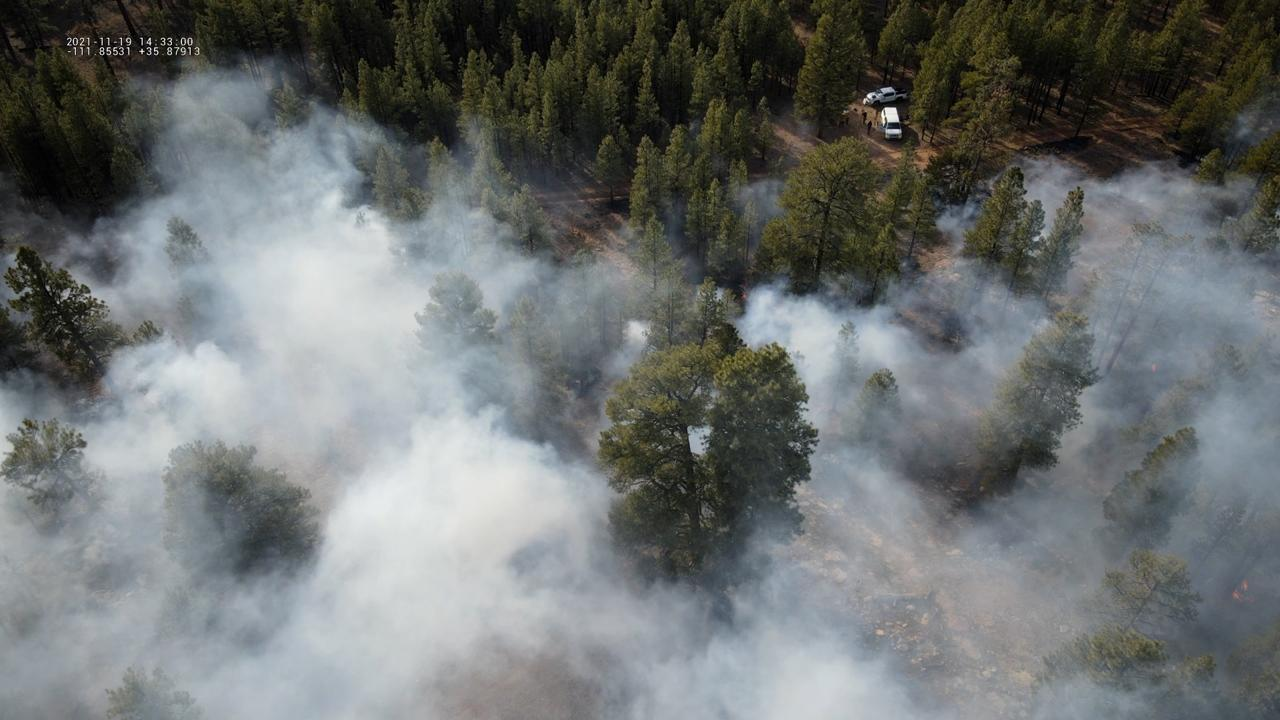fire: (1233, 579, 1248, 602)
smoke: (0, 46, 1280, 720)
